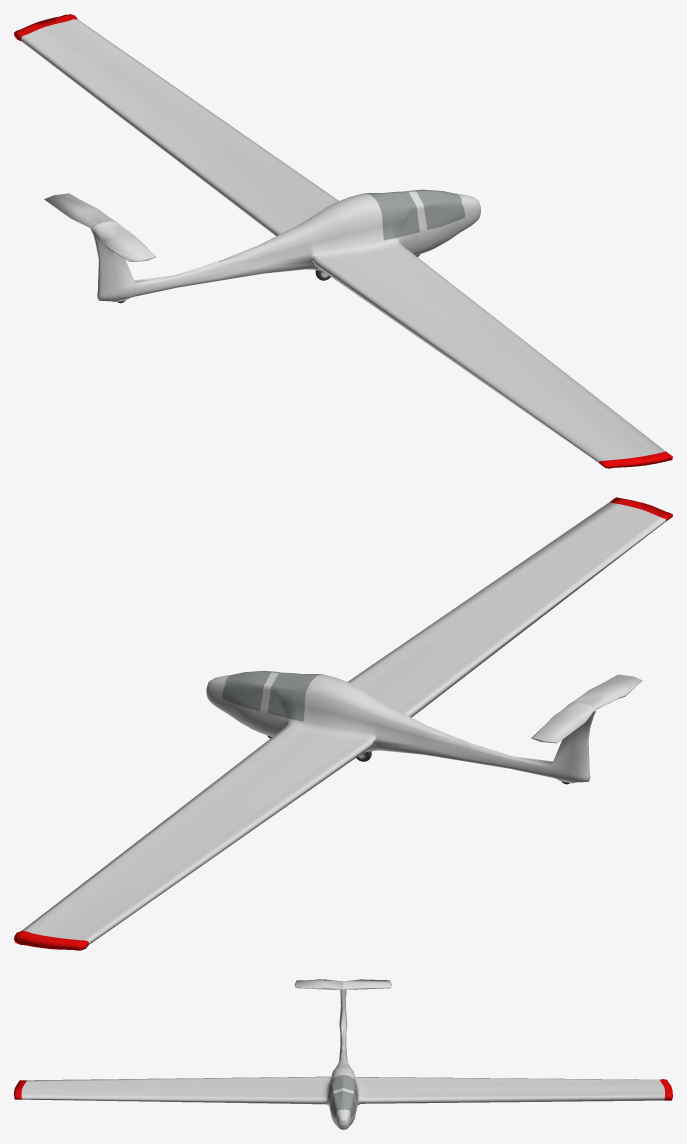
3 views of the same model, one above another, from view 1: azimuth 30°, elevation 25°; view 2: azimuth 150°, elevation 25°; view 3: azimuth 270°, elevation 25° (orthographic). The views are drawn at different scales.
Parts seen in each view (by area): view 1: Cube; view 2: Cube; view 3: Cube.
Boxes of the visible parts, bbox=[...] form: Cube: bbox=[14, 14, 672, 468]; Cube: bbox=[14, 497, 672, 950]; Cube: bbox=[14, 979, 672, 1129].
Size of the model in its own units: 16.64 by 4.52 by 43.99.
